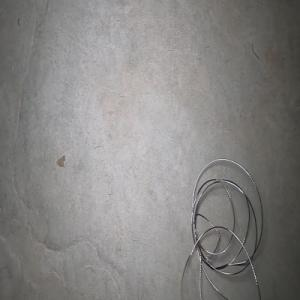Wire: (180, 158, 263, 300)
